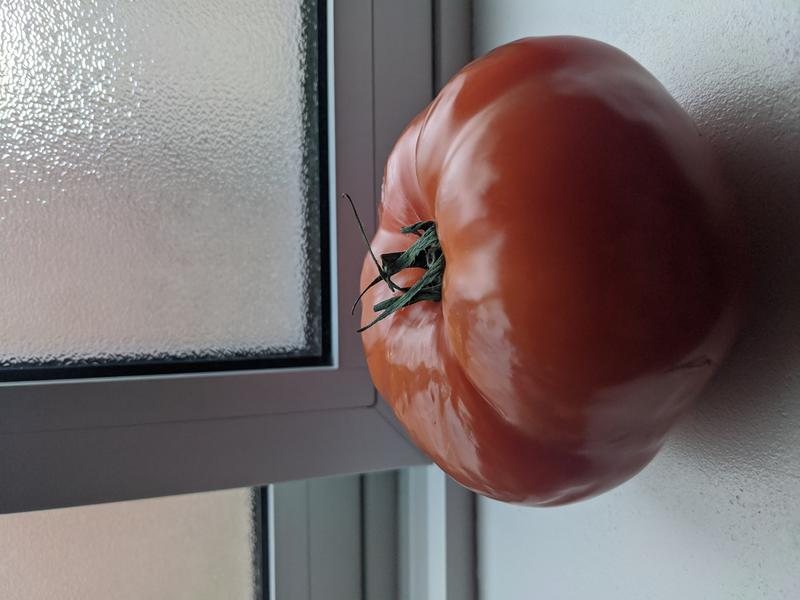tomato: (358, 35, 750, 508)
